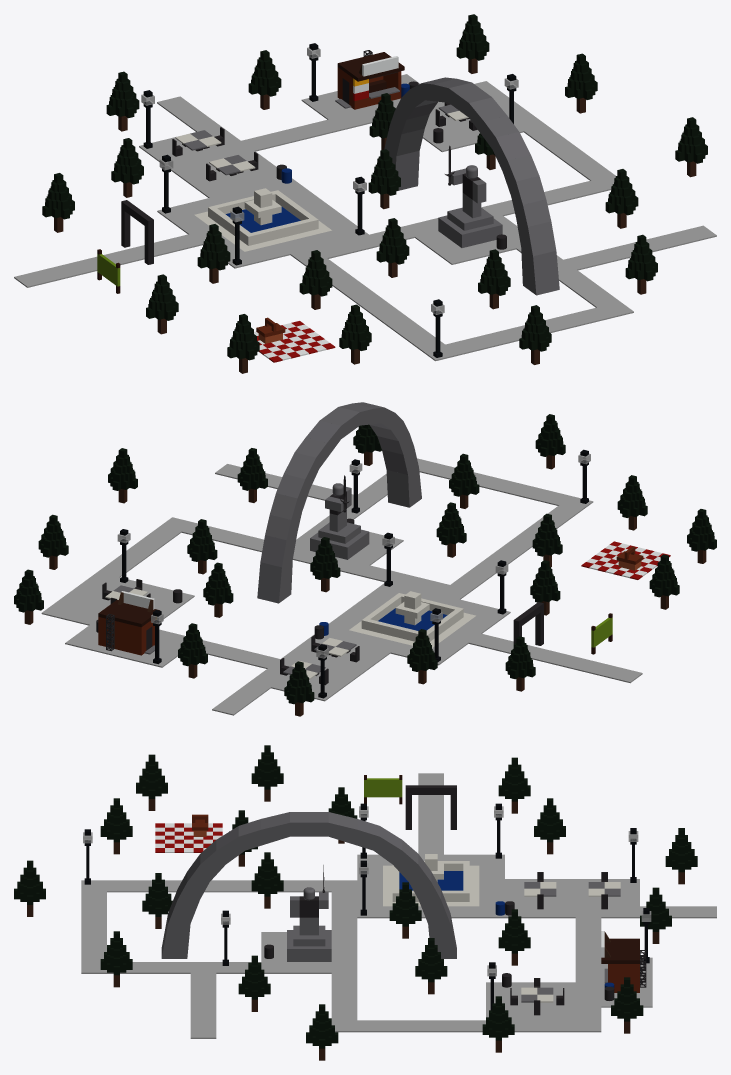
Rendered from park.obj.
3 renders of one model, top to bottom at view 1: azimuth 30°, elevation 25°; view 2: azimuth 150°, elevation 25°; view 3: azimuth 270°, elevation 25°, orthographic. The views are drawn at different scales.
Visible parts, largest first — view 1: Wedge4, Part148, Part281, Part147, Wedge7, Part849, Wedge5, Wedge19, Part150, Part149, Part644, Part212 (+12 smaller); view 2: Part844, Part849, Wedge6, Wedge3, Part147, Wedge9, Part148, Part281, Wedge27, Wedge21, Part145, Part159 (+9 smaller); view 3: Part151, Part849, Part145, Part240, Part4, Part150, Part963, Part951, Part147, Part653, Part853, Part281 (+14 smaller).
Part boxes in pixels (box(x1,y1,x2,y2)): Wedge4: box(533, 251, 559, 295); Part148: box(186, 172, 250, 197); Part281: box(422, 124, 477, 152); Part147: box(171, 153, 220, 181); Wedge7: box(528, 221, 556, 256); Part849: box(337, 52, 404, 81); Wedge5: box(394, 150, 419, 191); Wedge19: box(496, 132, 530, 160); Part150: box(234, 160, 281, 187); Part149: box(139, 136, 202, 161); Part644: box(447, 207, 493, 230); Part212: box(265, 235, 324, 257); Part844: box(98, 617, 142, 654); Part849: box(98, 600, 160, 627); Wedge6: box(257, 562, 281, 603); Wedge3: box(386, 470, 409, 507); Part147: box(314, 659, 368, 684); Wedge9: box(260, 535, 286, 567); Part148: box(331, 644, 390, 668); Part281: box(144, 586, 194, 612); Wedge27: box(284, 452, 316, 478); Wedge21: box(270, 493, 297, 519); Part145: box(250, 666, 289, 691); Part159: box(355, 635, 410, 655); Part151: box(550, 898, 594, 918); Part849: box(601, 938, 639, 963); Part145: box(595, 898, 639, 918); Part240: box(530, 1001, 575, 1020); Part4: box(364, 778, 402, 797); Part150: box(505, 898, 549, 918); Part963: box(290, 812, 328, 829); Part951: box(168, 924, 187, 958); Part147: box(550, 879, 594, 897); Part653: box(331, 1020, 382, 1032); Part853: box(608, 964, 636, 991); Part281: box(486, 982, 530, 1001).
Size of the model in its own units: 215 by 46.8 by 219.
